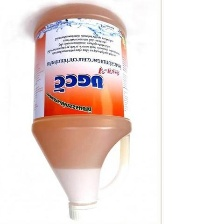cleaning_solution: (28, 0, 134, 223)
